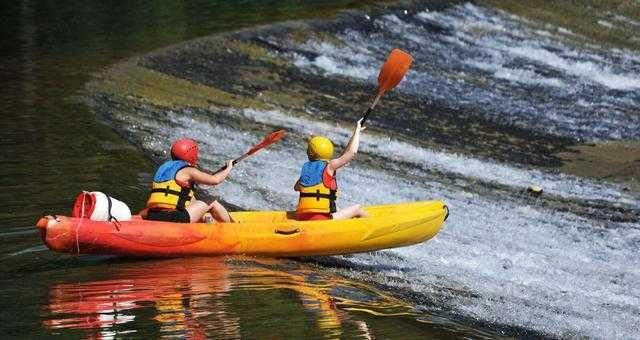kayak: (35, 198, 449, 258)
